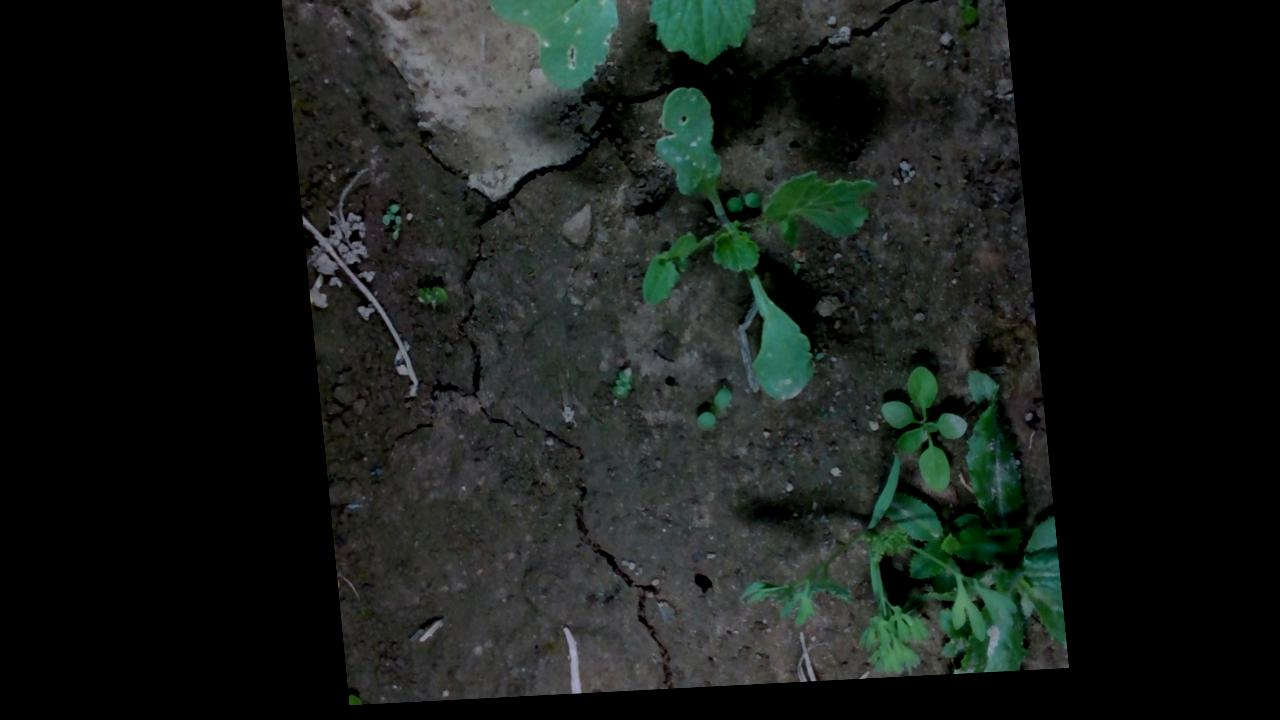weed: (683, 392, 721, 440), (944, 0, 978, 30), (596, 372, 625, 407), (368, 206, 396, 233)
